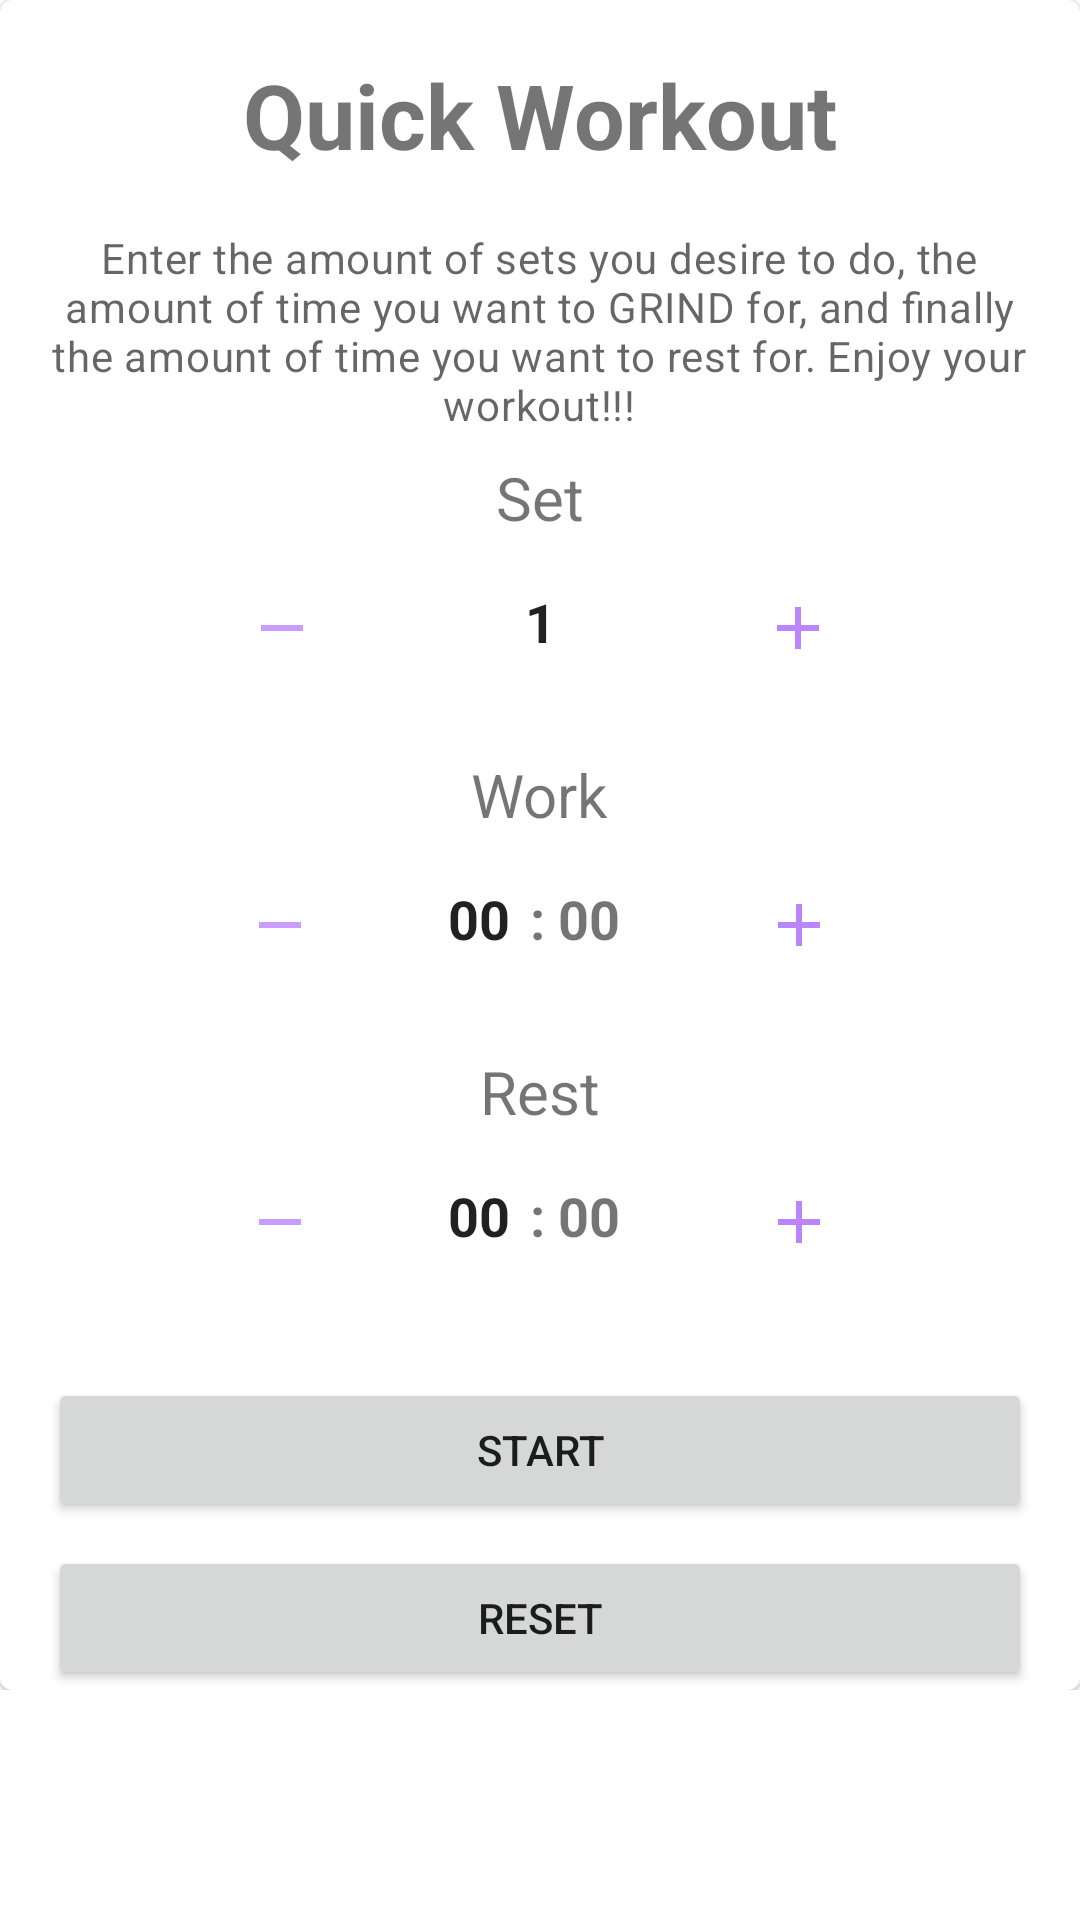

Named icons in this screenshot (1080w x 1920h) and their centers, [x,y]:
add: [798,628], [799,925], [799,1222]
